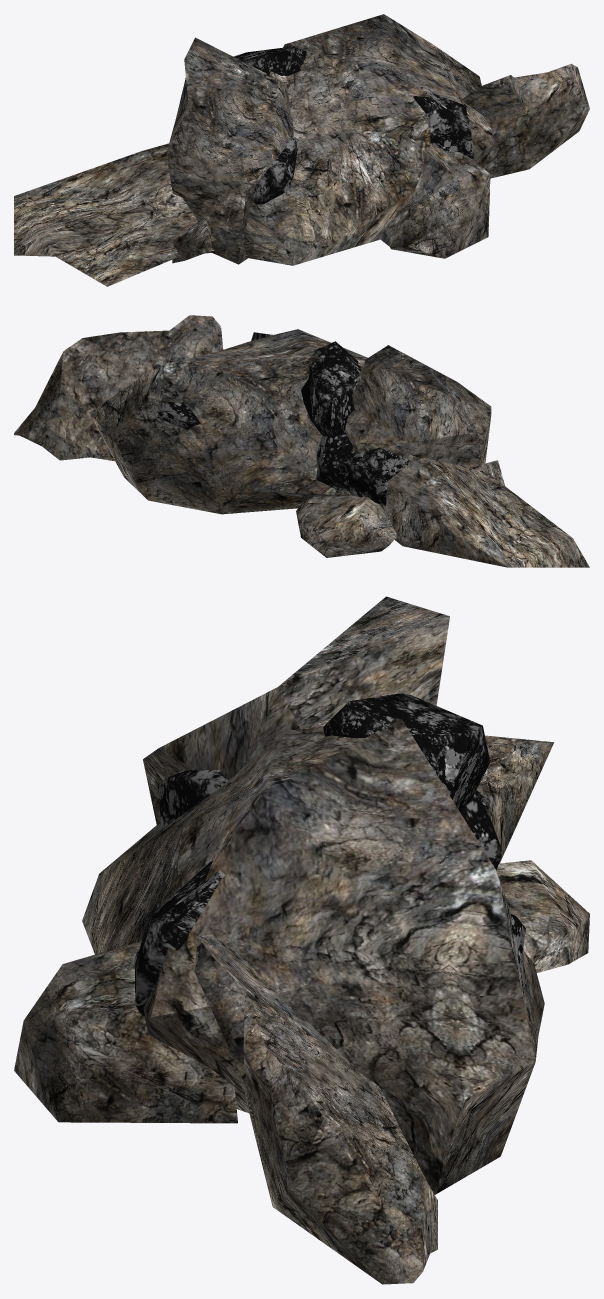
The model's file is pir_m_prp_cav_rockGroupSilver_a.fbx.
3 views of the same model, one above another, from view 1: azimuth 30°, elevation 25°; view 2: azimuth 150°, elevation 25°; view 3: azimuth 270°, elevation 25° (orthographic). The views are drawn at different scales.
Parts seen in each view (by area): view 1: rock6, bigrock1, rock_6, rock7, rock_7, rock_8, rock_5, rock_16, rock_1; view 2: rock6, rock_6, rock7, bigrock1, rock_07, rock_16, rock_3, rock_12, rock_2; view 3: rock6, rock7, rock_7, bigrock1, rock_16, rock_07, rock_6, rock_8, rock_5, rock_12.
Part boxes in pixels (x1,y1,x2,y2): rock6: (211, 14, 494, 265); bigrock1: (168, 37, 293, 264); rock_6: (14, 143, 211, 286); rock7: (461, 63, 589, 178); rock_7: (377, 145, 490, 258); rock_8: (413, 91, 474, 159); rock_5: (252, 136, 299, 204); rock_16: (233, 46, 306, 75); rock_1: (172, 216, 213, 263); rock6: (89, 329, 367, 514); rock_6: (379, 458, 589, 567); rock7: (14, 315, 223, 461); bigrock1: (345, 345, 491, 470); rock_07: (296, 495, 397, 557); rock_16: (301, 341, 361, 437); rock_3: (339, 447, 409, 505); rock_12: (316, 434, 352, 490); rock_2: (157, 402, 200, 429); rock6: (82, 716, 544, 1194); rock7: (194, 934, 437, 1284); rock_7: (14, 941, 237, 1123); bigrock1: (143, 596, 449, 824); rock_16: (323, 693, 490, 811); rock_07: (496, 860, 589, 972); rock_6: (477, 735, 553, 863); rock_8: (134, 860, 224, 1016); rock_5: (158, 769, 227, 828); rock_12: (460, 794, 502, 870).
Size of the model in its own units: 10745 by 3445 by 4905.
Materials: 2 (2 with a texture image).
